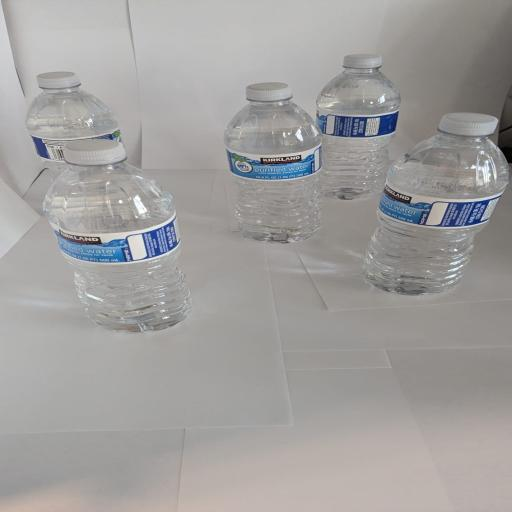waterbottle: (44, 139, 190, 332), (364, 113, 508, 294), (225, 83, 321, 242), (317, 55, 400, 199), (27, 72, 121, 179)
